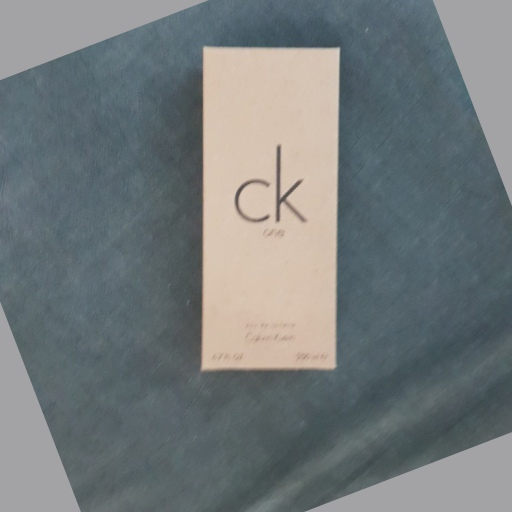Paper_0: (195, 38, 347, 383)
